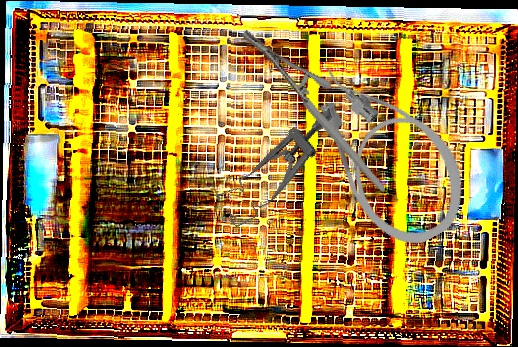Cannula: (295, 35, 483, 262)
Needle Holder: (239, 2, 386, 220)
Speculum: (205, 109, 356, 229)
